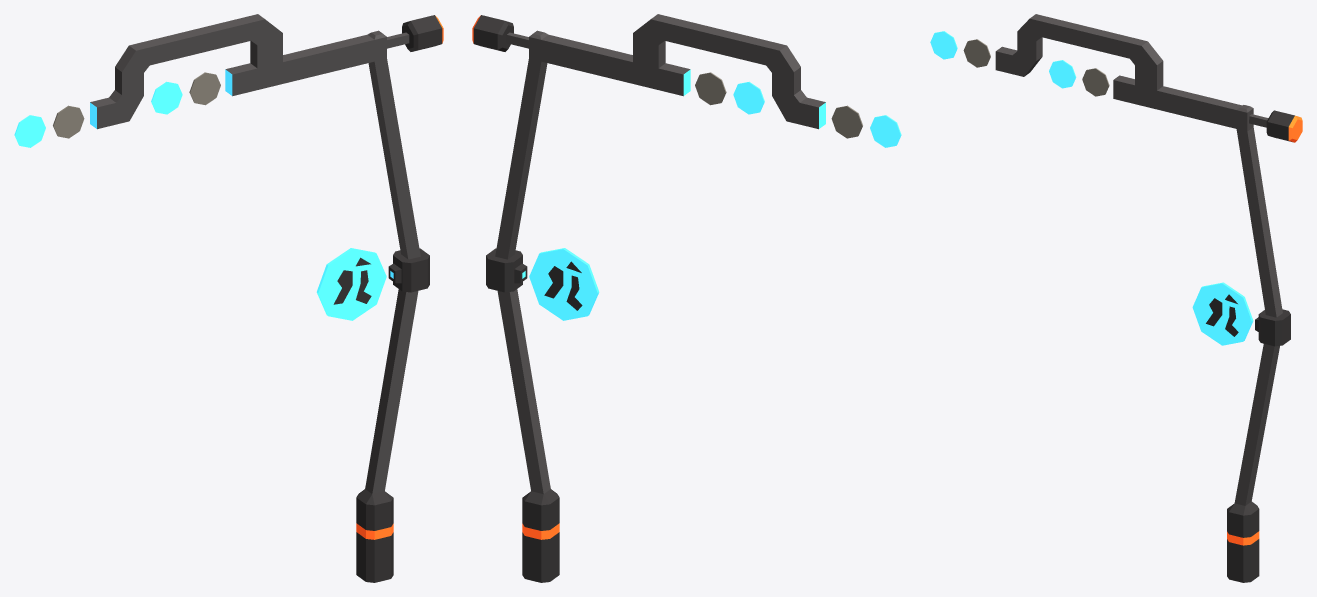
The model's file is scifi_scifi-traffic-lights-long-a.fbx.
3 renders of one model, left to right at view 1: azimuth 30°, elevation 25°; view 2: azimuth 150°, elevation 25°; view 3: azimuth 330°, elevation 25°, orthographic. The views are drawn at different scales.
Parts seen in each view (by area): view 1: scifi_scifi_traffic_lights_long_a; view 2: scifi_scifi_traffic_lights_long_a; view 3: scifi_scifi_traffic_lights_long_a.
Part boxes in pixels (box(x1,y1,x2,y2)): scifi_scifi_traffic_lights_long_a: box(14, 14, 443, 582); scifi_scifi_traffic_lights_long_a: box(472, 14, 901, 582); scifi_scifi_traffic_lights_long_a: box(930, 14, 1302, 582).
Size of the model in its own units: 151 by 200 by 9.89.
